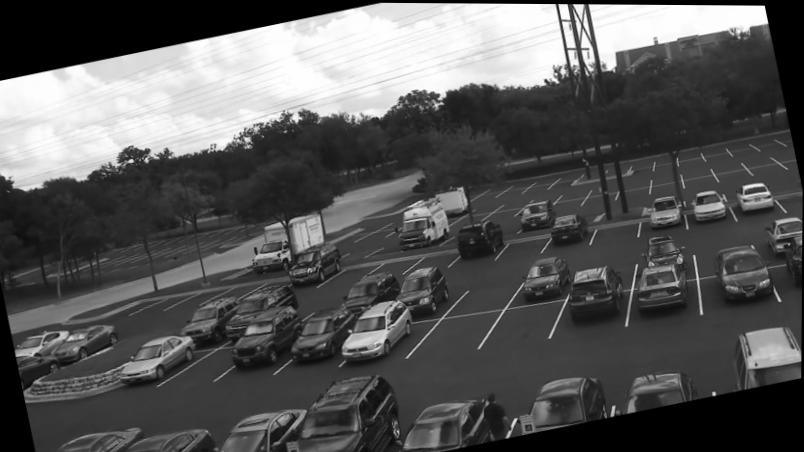empty: (406, 308, 490, 356), (163, 346, 234, 388), (492, 301, 565, 341), (459, 273, 518, 307), (587, 217, 640, 244), (696, 227, 747, 254), (322, 265, 376, 285), (500, 237, 547, 258), (369, 256, 422, 274), (145, 293, 198, 309), (296, 293, 336, 313), (764, 170, 802, 191), (359, 221, 403, 239), (589, 251, 631, 269), (681, 172, 720, 191), (179, 290, 226, 305), (714, 166, 752, 183), (413, 250, 456, 265), (218, 282, 263, 296), (615, 184, 654, 200), (579, 190, 618, 206), (775, 190, 803, 211), (747, 159, 785, 174), (652, 178, 684, 195), (710, 157, 744, 173), (552, 169, 583, 186), (590, 180, 624, 195), (452, 211, 489, 224), (652, 154, 680, 171), (483, 208, 520, 220), (649, 170, 683, 183), (525, 177, 554, 192), (620, 173, 650, 187), (680, 164, 712, 177), (559, 185, 593, 197), (726, 174, 755, 188), (677, 149, 704, 164), (741, 152, 772, 165), (532, 187, 563, 200), (470, 199, 503, 210), (554, 195, 586, 206), (629, 158, 656, 171), (754, 137, 780, 150), (492, 219, 520, 231), (499, 196, 532, 206), (501, 182, 528, 194), (704, 146, 727, 160), (475, 187, 505, 197), (770, 146, 796, 157), (729, 143, 755, 154), (575, 208, 598, 219), (774, 132, 793, 144), (779, 156, 798, 167)
occupied: (288, 372, 409, 452), (507, 369, 617, 437), (397, 398, 507, 452), (724, 322, 802, 390), (343, 299, 423, 359), (232, 304, 304, 364), (220, 407, 310, 452), (288, 305, 360, 361), (121, 335, 197, 385), (714, 239, 775, 301), (566, 262, 627, 323), (627, 366, 696, 412), (283, 241, 342, 290), (399, 196, 451, 250), (637, 259, 688, 313), (53, 324, 117, 367), (342, 270, 402, 315), (397, 266, 450, 313), (184, 295, 237, 342), (230, 285, 296, 322), (519, 255, 571, 298), (125, 428, 217, 452), (457, 220, 506, 261), (56, 431, 142, 452), (17, 354, 62, 390), (778, 232, 803, 287), (736, 180, 775, 215), (552, 212, 589, 247), (765, 215, 803, 249), (517, 198, 555, 230), (648, 234, 688, 263), (649, 194, 682, 227), (693, 189, 727, 220)
